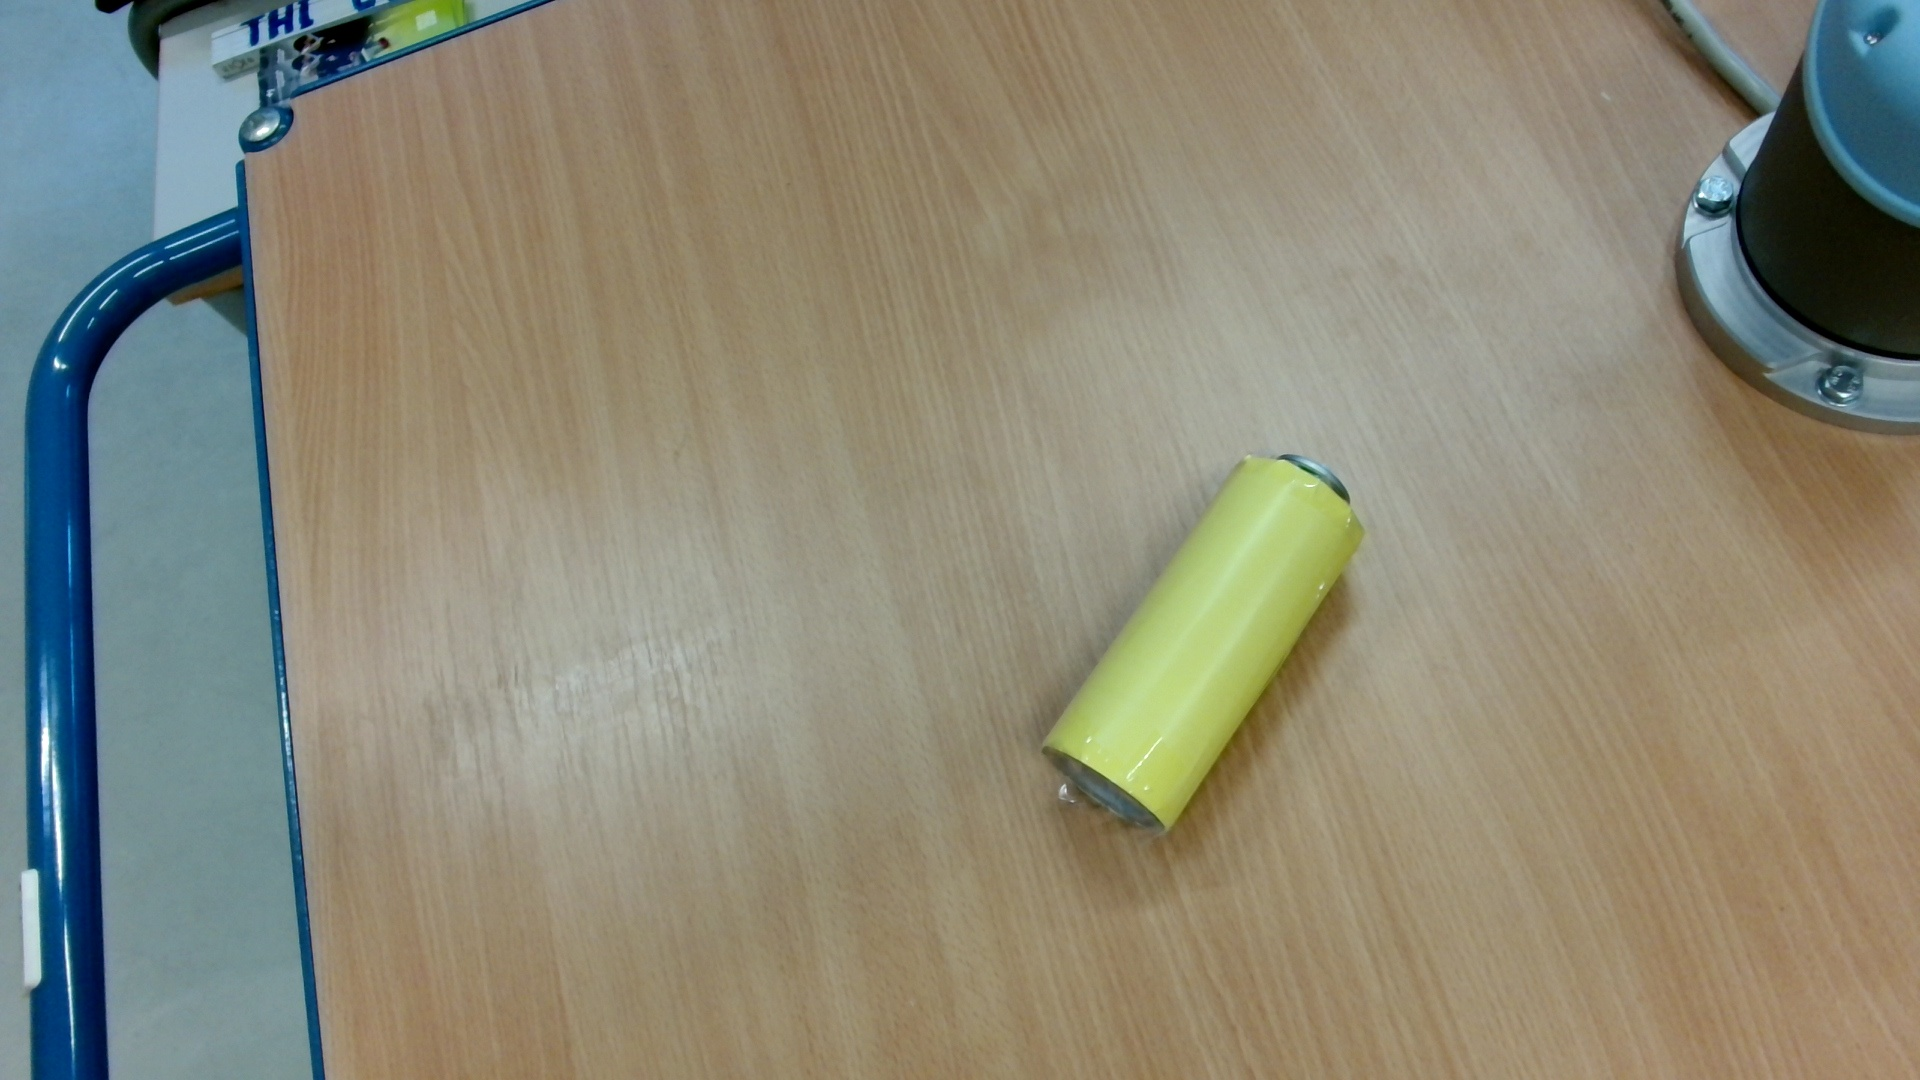Cylinder: (1021, 438, 1393, 844)
